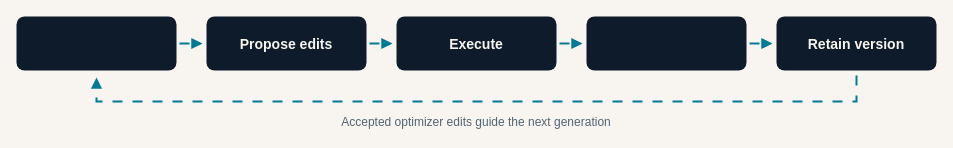
The diagram is 953 pixels wide and 148 high, and some of its shapes have lost their labels. The centre of each missing label's shape, as x and y in pixels:
"Observe failures" goes at point 96,43.
"Verify" goes at point 666,43.
